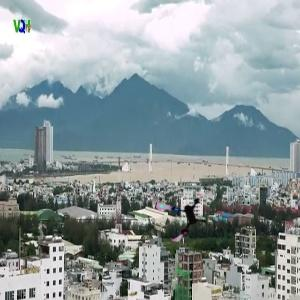drone: (153, 186, 213, 246)
